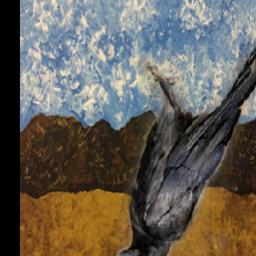Crow: (118, 39, 256, 256)
